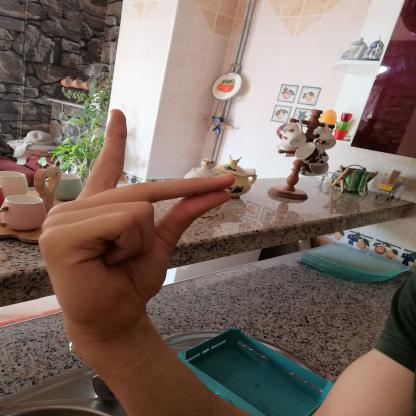TAA: (23, 98, 252, 352)
